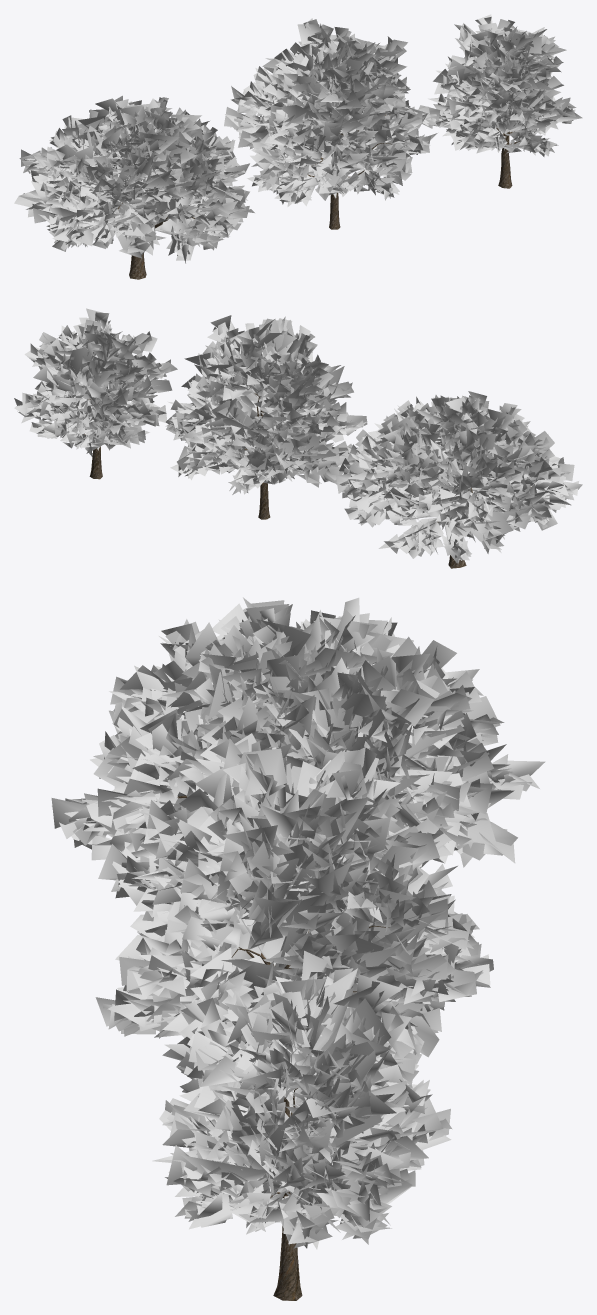
Rendered from street_trees.fbx.
The picture shows the model from 3 angles, top to bottom: view 1: azimuth 30°, elevation 25°; view 2: azimuth 150°, elevation 25°; view 3: azimuth 270°, elevation 25°; orthographic projection. The views are drawn at different scales.
Parts seen in each view (by area): view 1: Leaf_6, Bark_9; view 2: Leaf_6, Bark_9; view 3: Leaf_6, Bark_9.
Boxes of the visible parts, <box> form: Leaf_6: <box>14,14,582,263</box>; Bark_9: <box>117,114,519,279</box>; Leaf_6: <box>14,308,582,563</box>; Bark_9: <box>84,393,531,568</box>; Leaf_6: <box>51,597,545,1249</box>; Bark_9: <box>177,795,389,1300</box>.
Bounding box in the file's own units: 21646 × 7500 × 8764.
